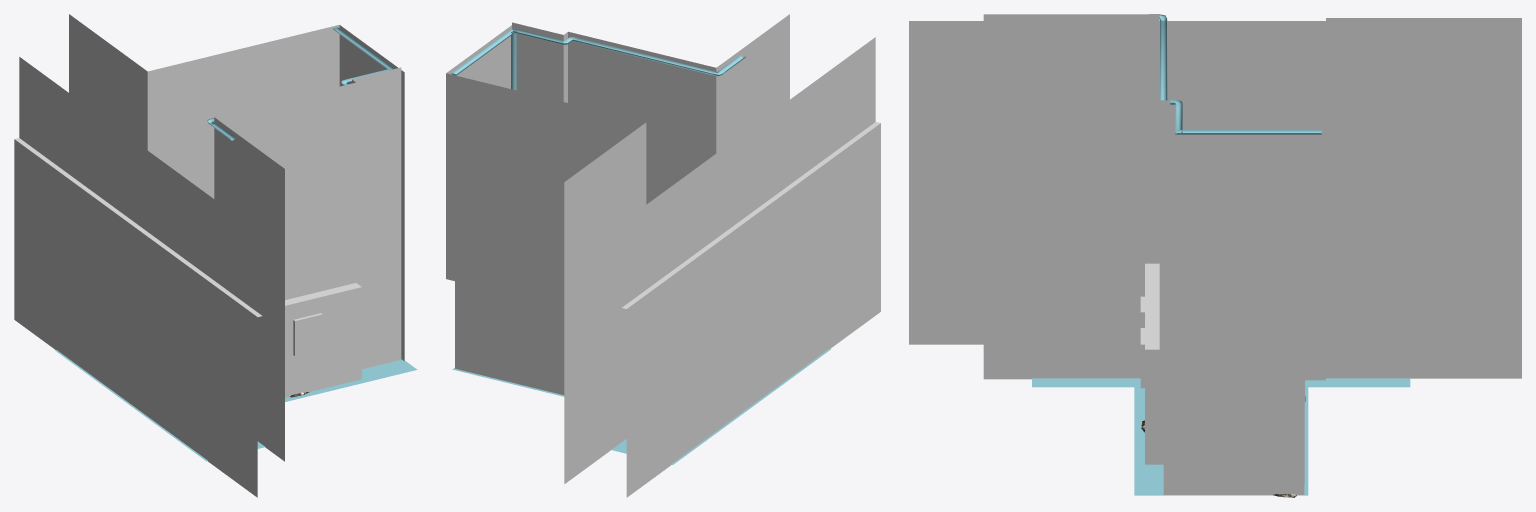
The model's file is f_alley_W_props.fbx.
The picture shows the model from 3 angles, left to right: view 1: azimuth 30°, elevation 25°; view 2: azimuth 150°, elevation 25°; view 3: azimuth 270°, elevation 25°; orthographic projection. The views are drawn at different scales.
Parts seen in each view (by area): view 1: f_farWall.001, f_sideWall_02, f_sideWall_01, f_floor, f_gutter; view 2: f_farWall.001, f_sideWall_01, f_sideWall_02, f_gutter, f_floor; view 3: f_sideWall_01, f_sideWall_02, f_farWall.001, f_floor, f_gutter.
Boxes of the visible parts, x1,y1,x2,y2 form: f_farWall.001: [14, 57, 262, 497]; f_sideWall_02: [214, 67, 401, 461]; f_sideWall_01: [69, 14, 404, 361]; f_floor: [55, 350, 417, 461]; f_gutter: [207, 27, 394, 140]; f_farWall.001: [621, 37, 880, 497]; f_sideWall_01: [446, 25, 646, 483]; f_sideWall_02: [512, 14, 789, 204]; f_gutter: [451, 29, 745, 90]; f_floor: [452, 348, 830, 464]; f_sideWall_01: [1163, 18, 1521, 494]; f_sideWall_02: [983, 14, 1170, 464]; f_farWall.001: [909, 21, 1325, 344]; f_floor: [1032, 378, 1410, 495]; f_gutter: [1159, 14, 1321, 134].
Size of the model in its own units: 786 by 472 by 517.
